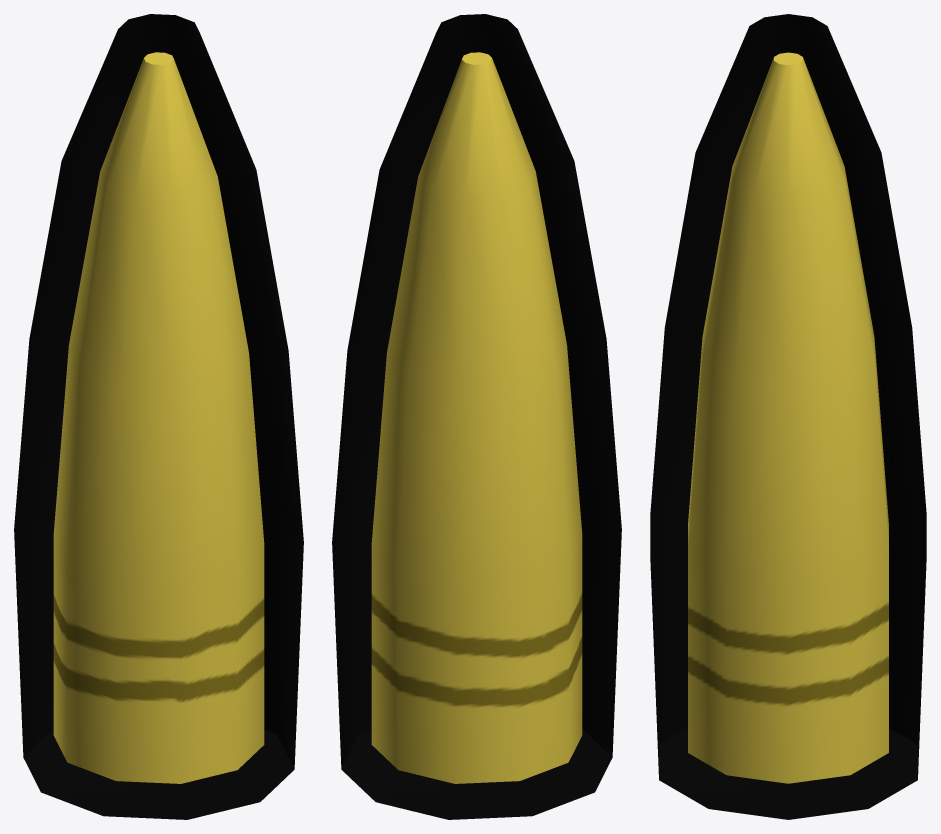
File: 45mm_bullet.fbx
The picture shows the model from 3 angles, left to right: view 1: azimuth 30°, elevation 25°; view 2: azimuth 150°, elevation 25°; view 3: azimuth 270°, elevation 25°; orthographic projection.
Parts seen in each view (by area): view 1: pCylinder25 (×2); view 2: pCylinder25 (×2); view 3: pCylinder25 (×2).
Part boxes in pixels (x1,y1,x2,y2): pCylinder25 (×2): (14, 14, 303, 819); pCylinder25 (×2): (332, 14, 621, 819); pCylinder25 (×2): (650, 14, 926, 819).
Bounding box in the file's own units: 3.21 × 9.16 × 3.05.
